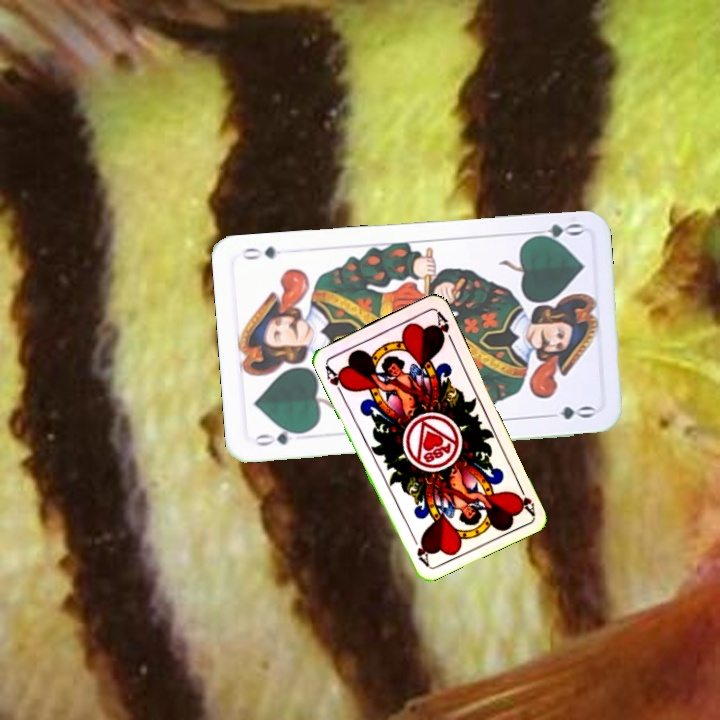GO: (525, 219, 584, 245), (250, 424, 308, 449)
HA: (321, 360, 351, 398), (511, 478, 537, 517)
